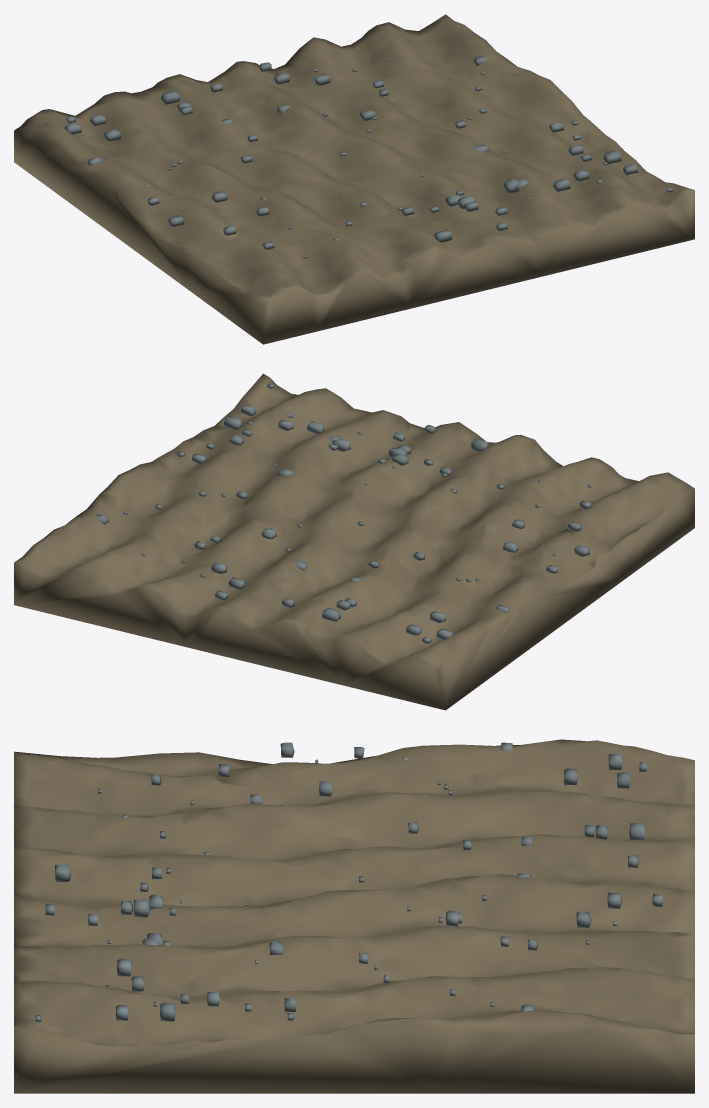
The model's file is sand-pebble-bed.lod1.glb.
3 views of the same model, one above another, from view 1: azimuth 30°, elevation 25°; view 2: azimuth 150°, elevation 25°; view 3: azimuth 270°, elevation 25° (orthographic). The views are drawn at different scales.
Parts seen in each view (by area): view 1: sand-pebble-bed; view 2: sand-pebble-bed; view 3: sand-pebble-bed.
Boxes of the visible parts, bbox=[...] form: sand-pebble-bed: bbox=[14, 14, 694, 344]; sand-pebble-bed: bbox=[14, 373, 694, 710]; sand-pebble-bed: bbox=[14, 739, 694, 1093].
Size of the model in its own units: 2 by 0.2374 by 2.
